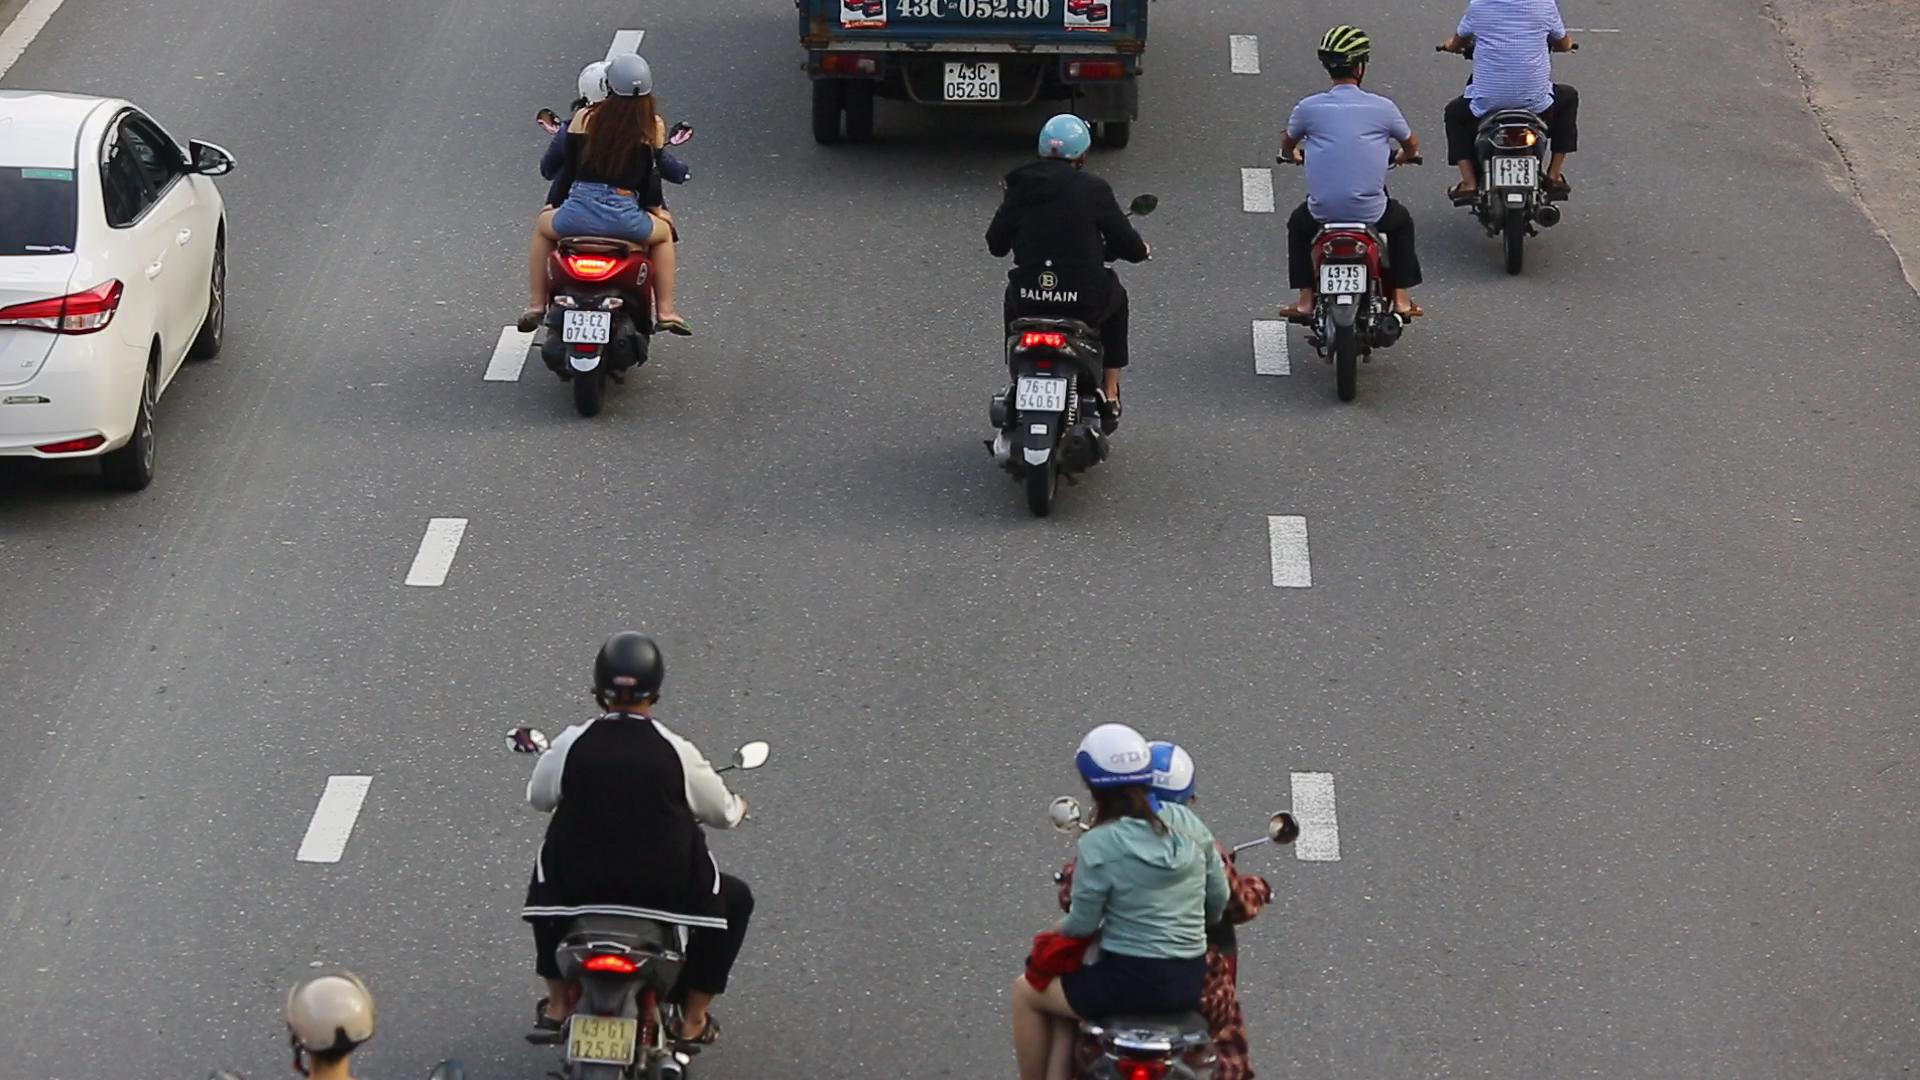motobike: (493, 624, 779, 1080), (959, 104, 1150, 551), (510, 29, 705, 422), (1261, 16, 1439, 402)
